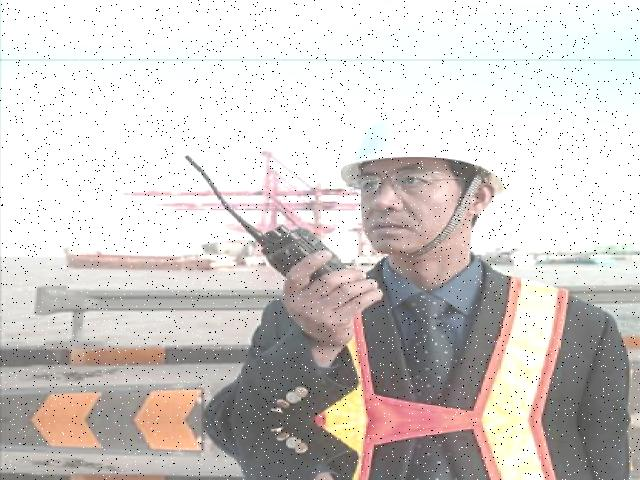Helmet: (333, 103, 512, 202)
